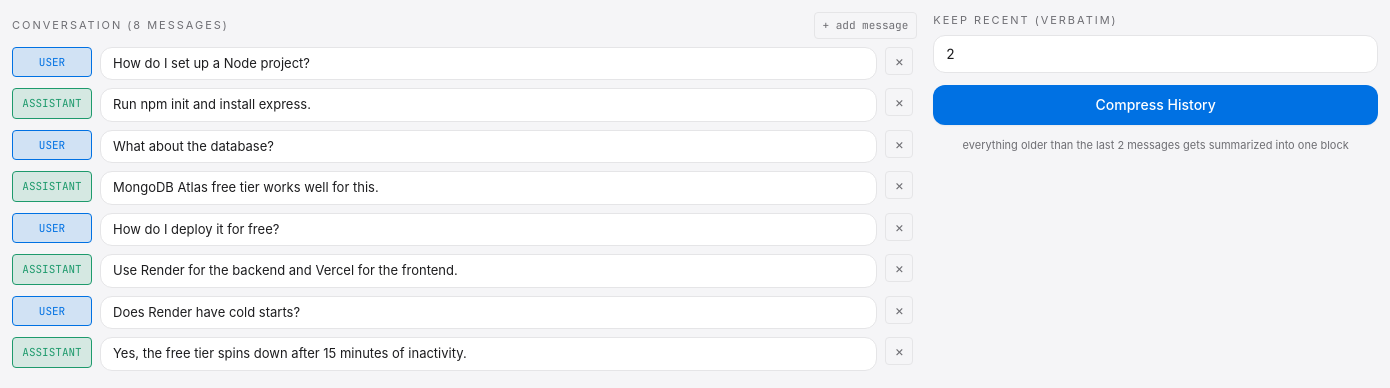
Test case: ChatCompressor › clicking a role badge toggles user <-> assistant
This screenshot has width=1390, height=388.
Click the 1st button "user": (52, 62) [12,46,92,77]
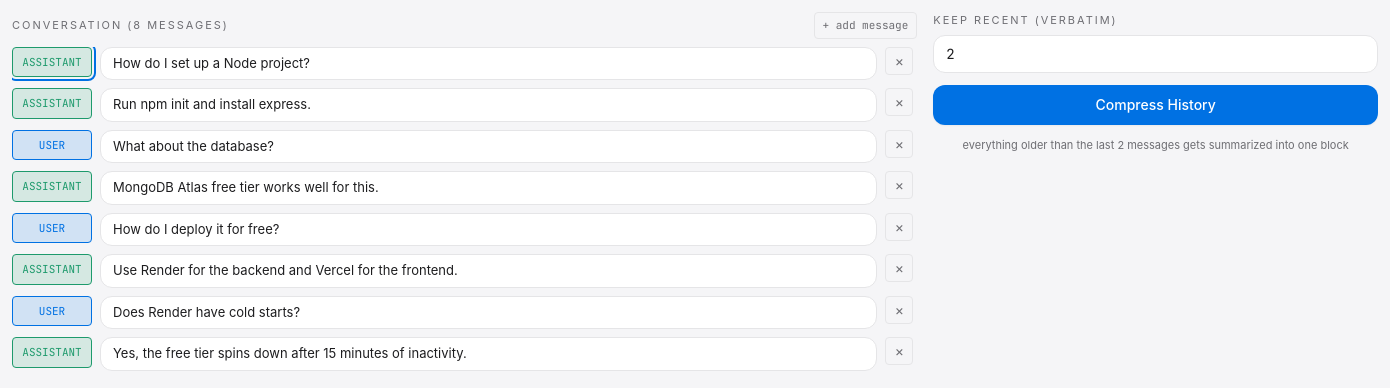
Expected: the text "user" is gone
